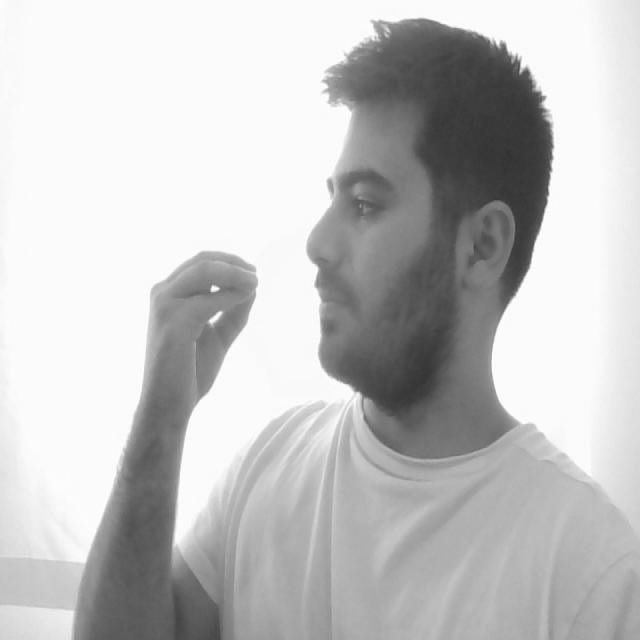Yemek: (147, 248, 354, 328)
